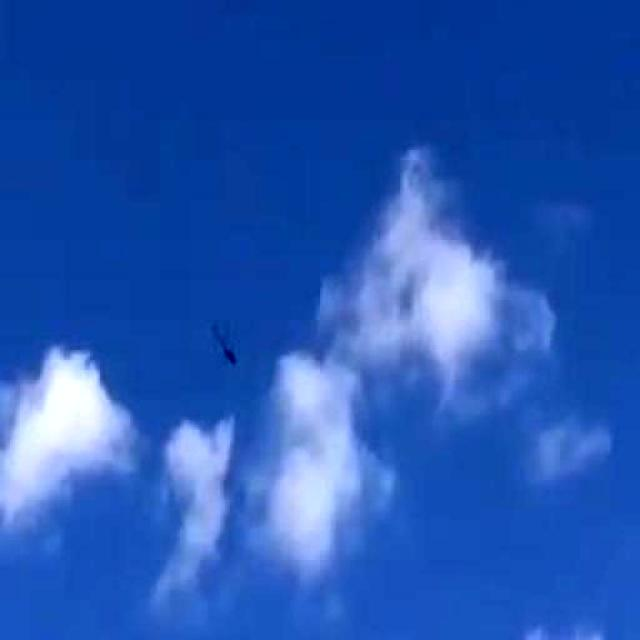drone: (184, 306, 264, 384)
